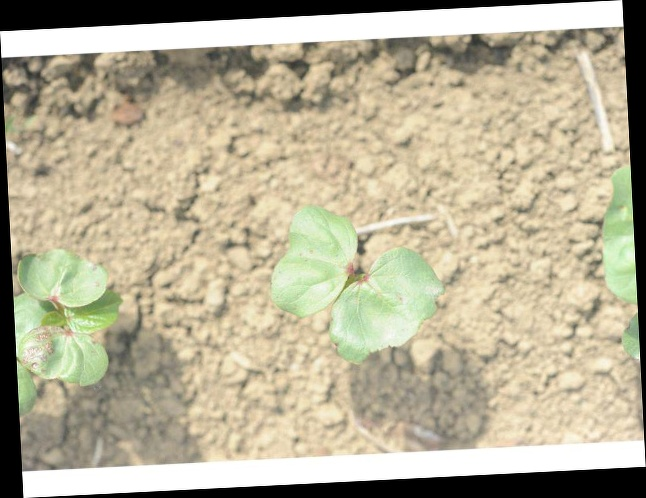cotton: (270, 202, 445, 365), (14, 245, 124, 415)
